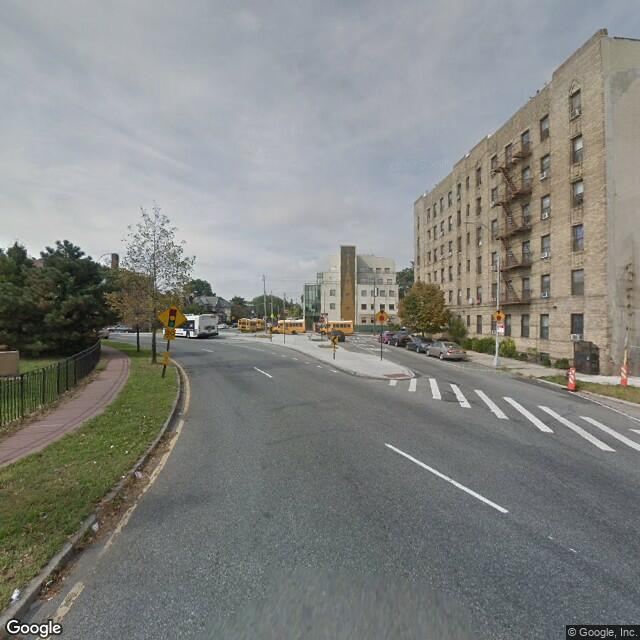litter: (8, 592, 28, 602)
